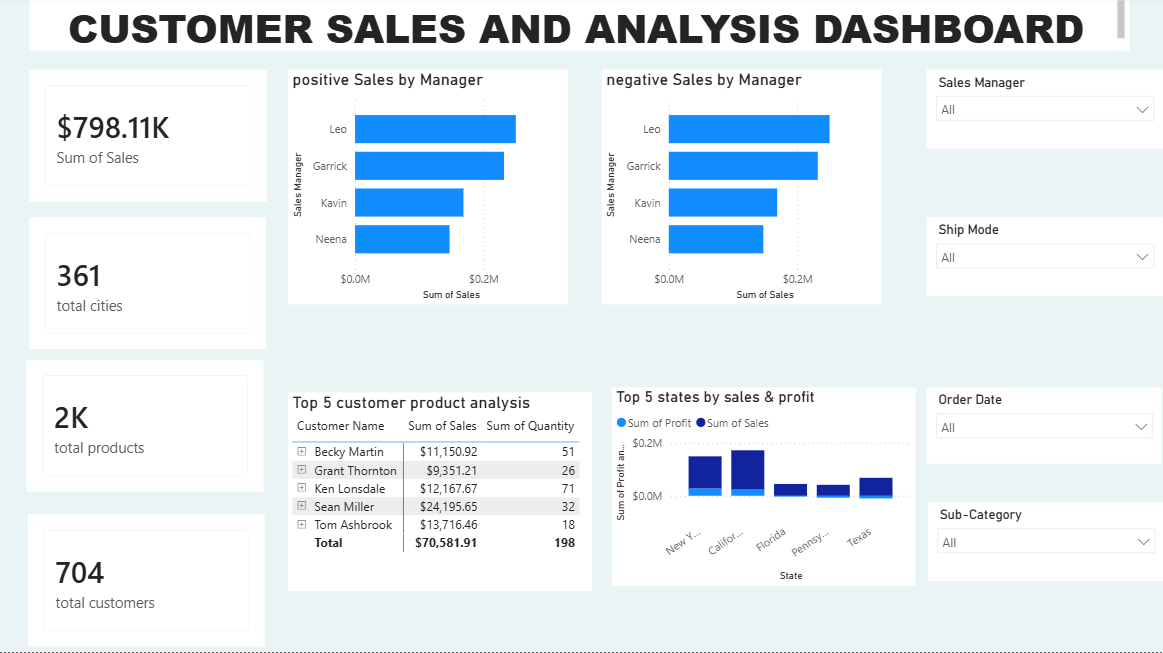

The page's visual inventory and layout, read from the dashboard file:
{"tool":"powerbi","page":{"name":"Report 2","canvas":[1280,720],"ordinal":1},"visuals":[{"type":"textbox","box":[35,0,1207.6,60.3],"z":0},{"type":"cardVisual","fields":{"Data":["Sum(Project 2 Data.Sales)"]},"box":[34.3,81,260.7,145],"z":1000},{"type":"cardVisual","fields":{"Data":["Project 2 Data.total products"]},"box":[31.6,399.3,260,145],"z":2000},{"type":"cardVisual","fields":{"Data":["Project 2 Data.total customers"]},"box":[32.9,569.5,260,145],"z":3000},{"type":"slicer","fields":{"Values":["Project 2 Data.Order Date"]},"box":[1019.6,429.5,258,83.7],"z":4000},{"type":"slicer","fields":{"Values":["Project 2 Data.Sales Manager"]},"box":[1019.6,81,259.3,86.4],"z":5000},{"type":"slicer","fields":{"Values":["Project 2 Data.Sub-Category"]},"box":[1020.9,555.7,259.3,86.4],"z":6000},{"type":"slicer","fields":{"Values":["Project 2 Data.Ship Mode"]},"box":[1019.6,242.9,259.3,86.4],"z":7000},{"type":"cardVisual","fields":{"Data":["Project 2 Data.total cities"]},"box":[34.3,242.9,260,145],"z":8000},{"type":"pivotTable","title":"Top 5 customer product analysis","fields":{"Values":["Sum(Project 2 Data.Sales)","Sum(Project 2 Data.Quantity)"],"Rows":["Project 2 Data.Customer Name","Project 2 Data.Product Name","Project 2 Data.City","Project 2 Data.Category"]},"box":[318.4,435,333.4,218.2],"z":9000},{"type":"clusteredBarChart","title":"positive Sales by Manager","fields":{"Y":["Sum(Project 2 Data.Sales)"],"Category":["Project 2 Data.Sales Manager"]},"box":[318.4,81,307.4,258],"z":10000},{"type":"clusteredBarChart","title":"negative Sales by Manager","fields":{"Y":["Sum(Project 2 Data.Sales)"],"Category":["Project 2 Data.Sales Manager"]},"box":[662.8,81,307.4,258],"z":11000},{"type":"columnChart","title":"Top 5 states by sales & profit","fields":{"Y":["Sum(Project 2 Data.Profit)","Sum(Project 2 Data.Sales)"],"Category":["Project 2 Data.State"]},"box":[673.8,429.5,333.4,218.2],"z":12000}]}

Visuals, with their boxes in screenshot pixels (x1, y1, x2, y2), scaled from the page's 1280x720 canvas onto the 1163x653 screenshot:
textbox: (x1=32, y1=0, x2=1129, y2=55)
cardVisual - Sum(Project 2 Data.Sales): (x1=31, y1=73, x2=268, y2=205)
cardVisual - Project 2 Data.total products: (x1=29, y1=362, x2=265, y2=494)
cardVisual - Project 2 Data.total customers: (x1=30, y1=517, x2=266, y2=648)
slicer - Project 2 Data.Order Date: (x1=926, y1=390, x2=1161, y2=465)
slicer - Project 2 Data.Sales Manager: (x1=926, y1=73, x2=1162, y2=152)
slicer - Project 2 Data.Sub-Category: (x1=928, y1=504, x2=1162, y2=582)
slicer - Project 2 Data.Ship Mode: (x1=926, y1=220, x2=1162, y2=299)
cardVisual - Project 2 Data.total cities: (x1=31, y1=220, x2=267, y2=352)
"Top 5 customer product analysis" pivotTable: (x1=289, y1=395, x2=592, y2=592)
"positive Sales by Manager" clusteredBarChart: (x1=289, y1=73, x2=569, y2=307)
"negative Sales by Manager" clusteredBarChart: (x1=602, y1=73, x2=882, y2=307)
"Top 5 states by sales & profit" columnChart: (x1=612, y1=390, x2=915, y2=587)
